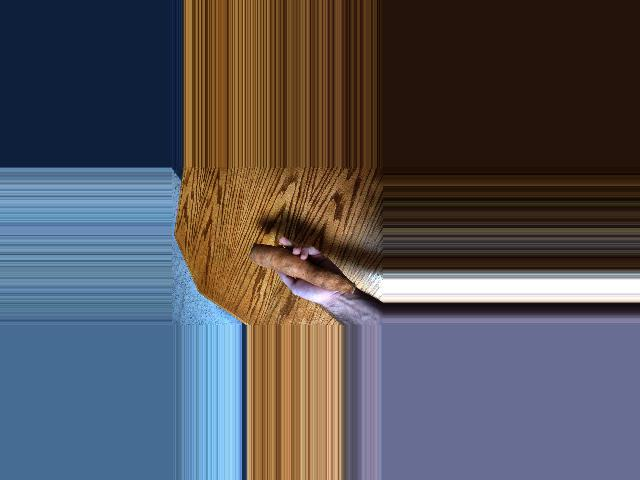sweet_potato: (249, 241, 359, 296)
